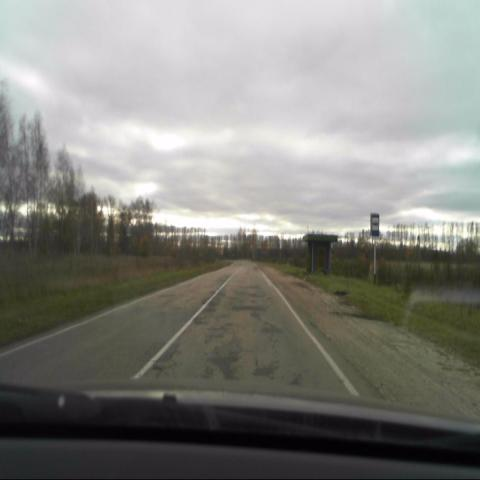5_16: (371, 213, 379, 237)
